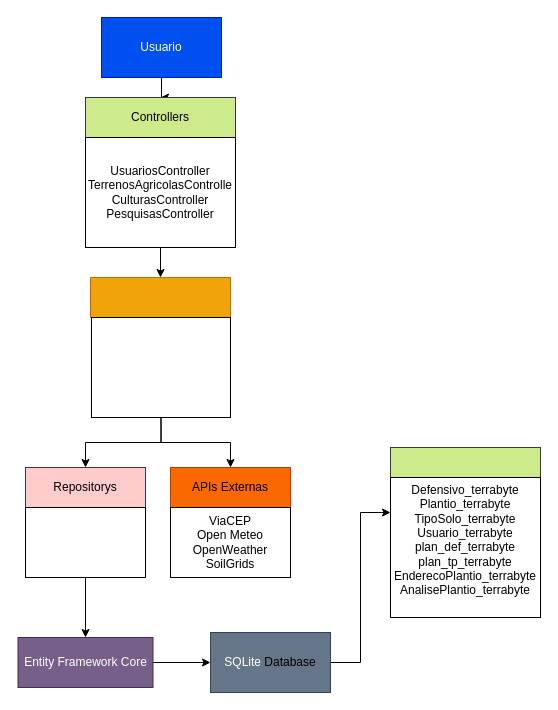
This 558x710 diagram has some shape labels left out. The shapes that lost their labels are listed below. From the top down, each one's centre as x and y in pixels, then its label:
At pixel 160 297: "Services".
At pixel 160 367: "UserService TerrenoService CulturaService PesquisaService".
At pixel 465 462: "Tabelas".
At pixel 85 542: "Usuario Terreno Cultura Pesquisa".
